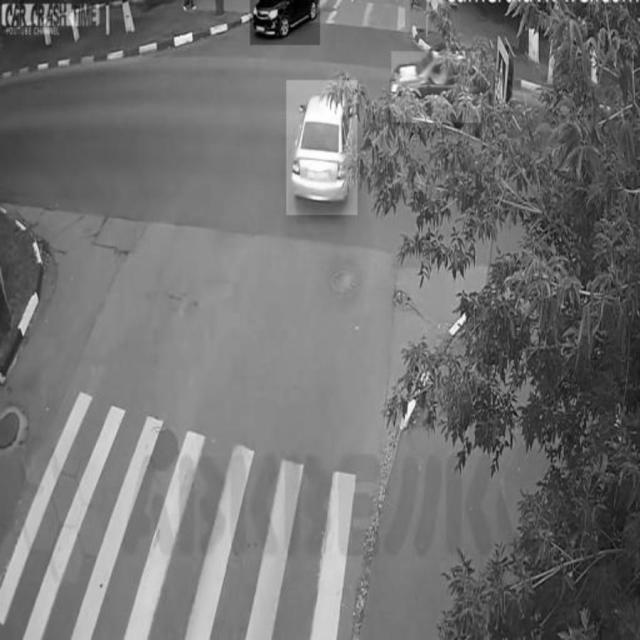vehicle: (287, 80, 358, 214), (391, 52, 481, 123), (250, 1, 320, 46)
